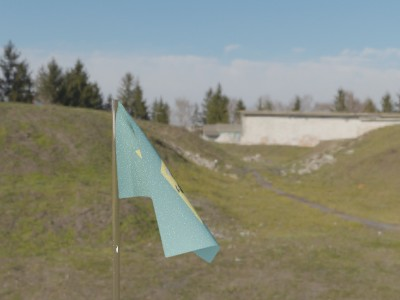Delaware flag: (116, 104, 225, 262)
